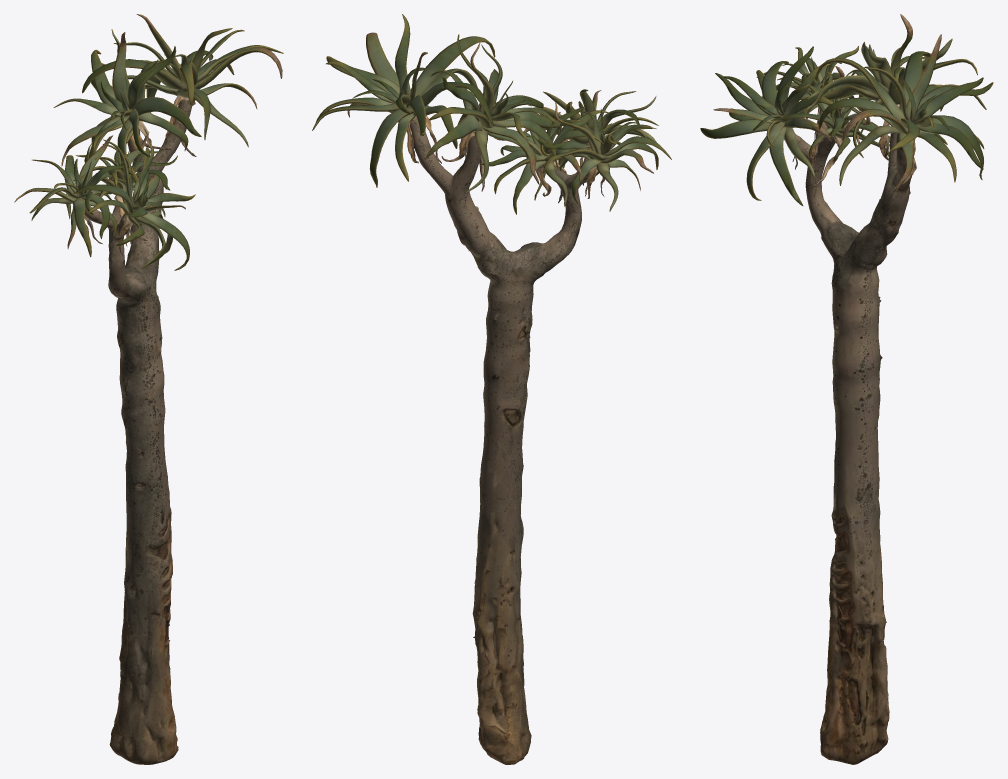
File: quiver_tree_01.glb
The picture shows the model from 3 angles, left to right: view 1: azimuth 30°, elevation 25°; view 2: azimuth 150°, elevation 25°; view 3: azimuth 270°, elevation 25°; orthographic projection. The views are drawn at different scales.
Visible parts, largest first — view 1: quiver_tree_01; view 2: quiver_tree_01; view 3: quiver_tree_01.
Part boxes in pixels (box(x1,y1,x2,y2)): quiver_tree_01: box(14, 14, 283, 764); quiver_tree_01: box(312, 14, 671, 764); quiver_tree_01: box(700, 14, 993, 764).
Bounding box in the file's own units: 1.18 × 2.72 × 0.9683.
2 materials, 2 textured.
